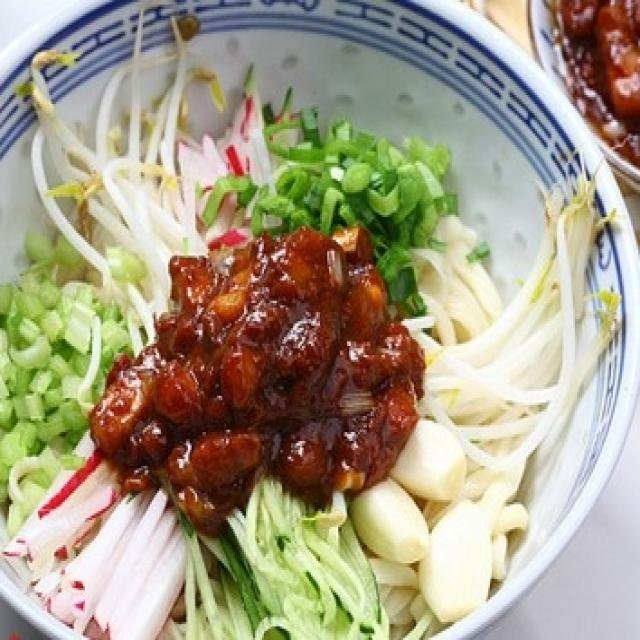面条主食: (6, 9, 626, 629)
